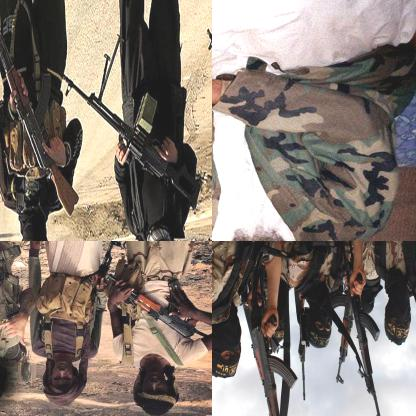rifle: (41, 34, 203, 212), (0, 2, 80, 217), (105, 273, 211, 354), (348, 274, 390, 415), (252, 314, 299, 415), (0, 241, 22, 322), (332, 309, 354, 386), (297, 318, 310, 399)
